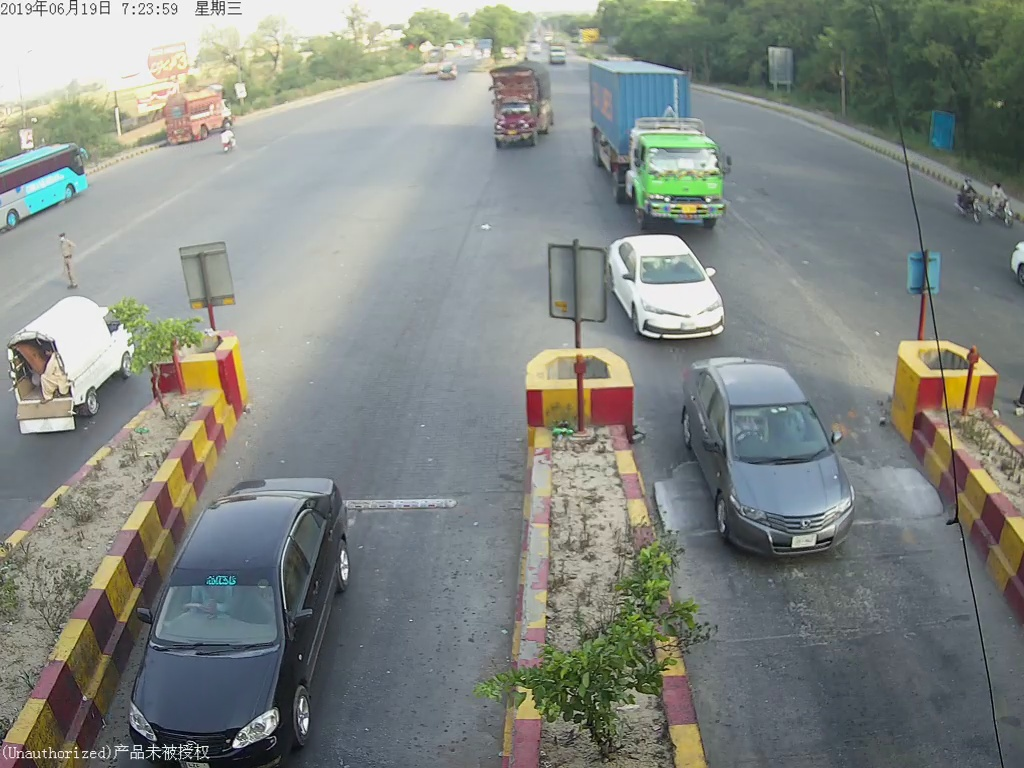Cat-1: (126, 474, 374, 768), (674, 355, 879, 564), (600, 226, 733, 347)
Cat-4: (477, 64, 562, 152)
Cat-5: (583, 44, 740, 212)
